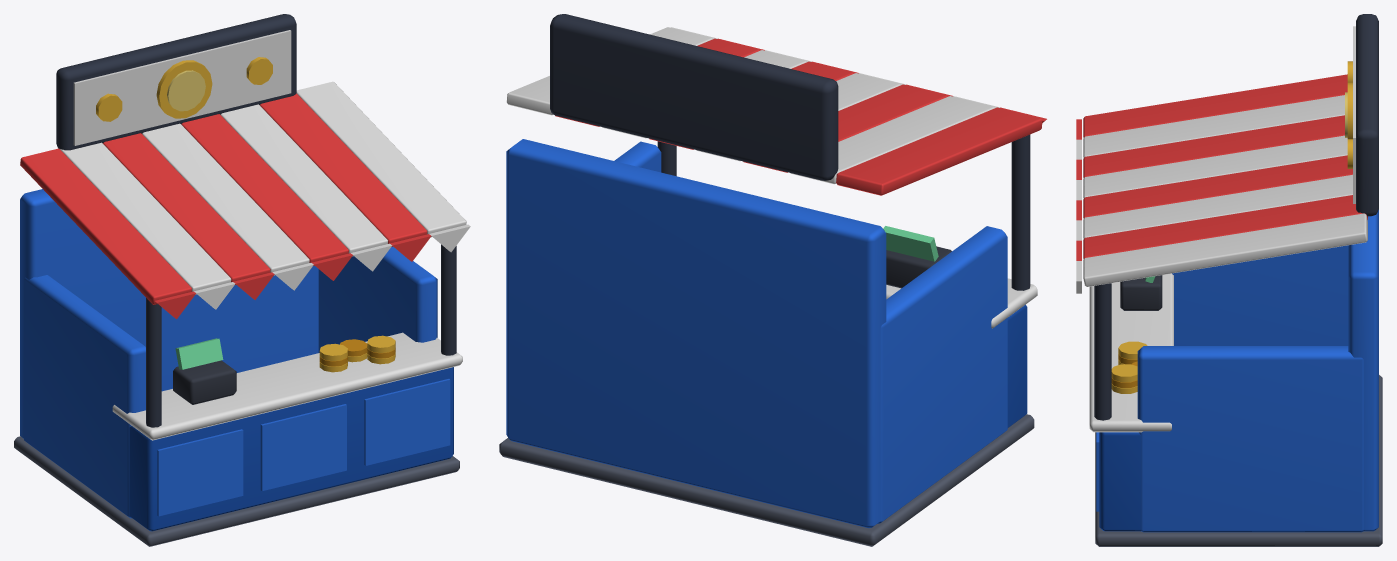
Rendered from mint-shop.glb.
3 views of the same model, side by side, from view 1: azimuth 30°, elevation 25°; view 2: azimuth 150°, elevation 25°; view 3: azimuth 270°, elevation 25° (orthographic). The views are drawn at different scales.
Visible parts, largest first — view 1: mint-shop; view 2: mint-shop; view 3: mint-shop.
Boxes of the visible parts, x1,y1,x2,y2 form: mint-shop: (14,14,470,546); mint-shop: (499,14,1046,546); mint-shop: (1076,14,1382,546).
Bounding box in the file's own units: 2 × 2.28 × 1.6.
